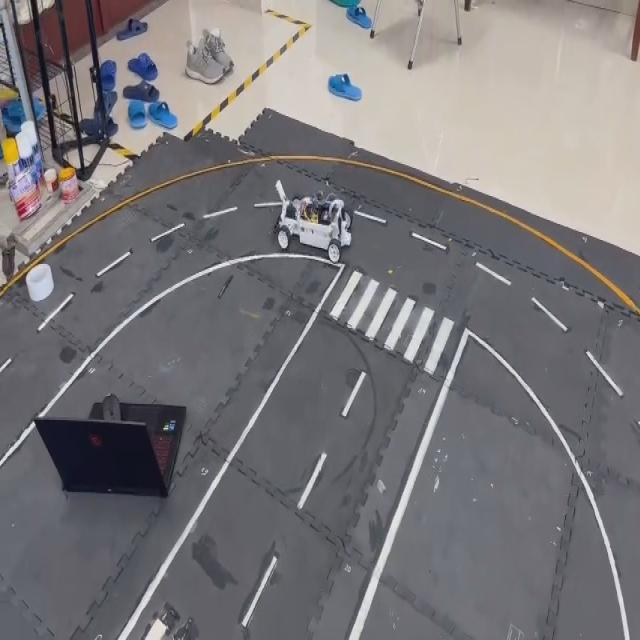SiCo-CAR: (272, 177, 352, 264)
